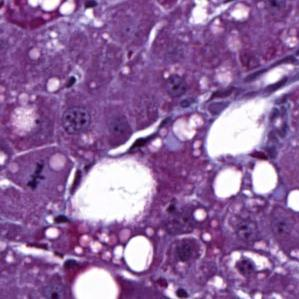ballooning: (68, 153, 159, 234), (205, 91, 292, 169)
